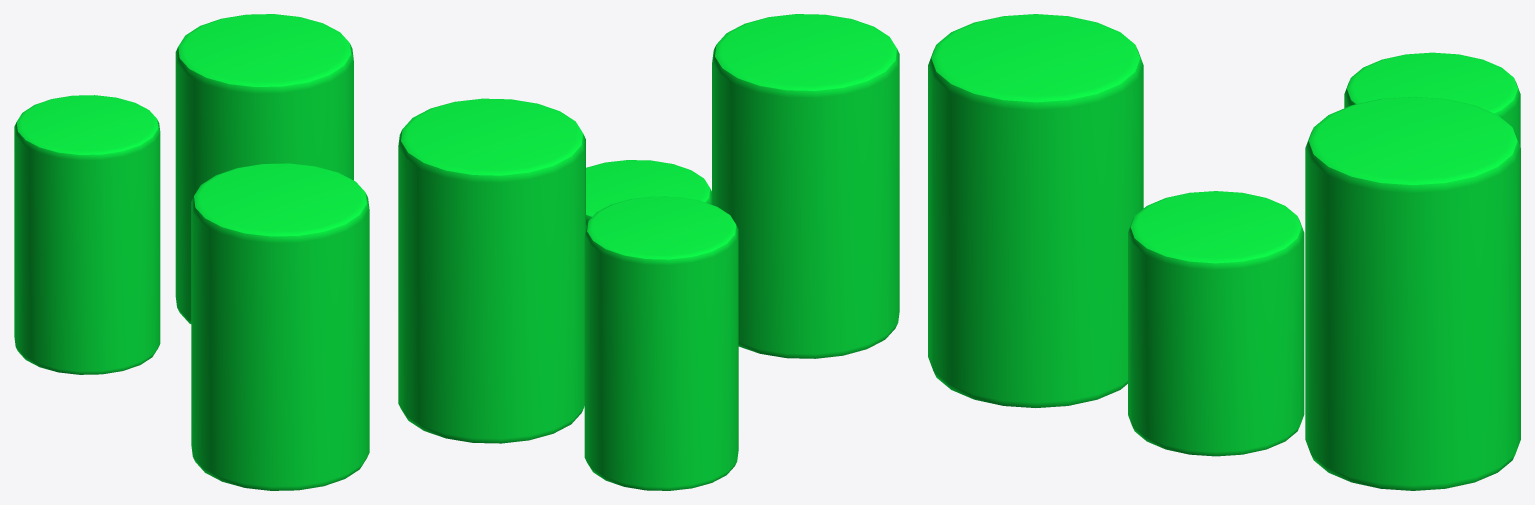
File: Barrels_OBJ.obj
3 views of the same model, side by side, from view 1: azimuth 30°, elevation 25°; view 2: azimuth 150°, elevation 25°; view 3: azimuth 270°, elevation 25° (orthographic). The views are drawn at different scales.
Visible parts, largest first — view 1: Barrels; view 2: Barrels; view 3: Barrels.
Boxes of the visible parts, x1=… form: Barrels: x1=14, y1=14, x2=369, y2=490; Barrels: x1=398, y1=14, x2=899, y2=490; Barrels: x1=928, y1=14, x2=1520, y2=490.
Bounding box in the file's own units: 132 × 107 × 182.
